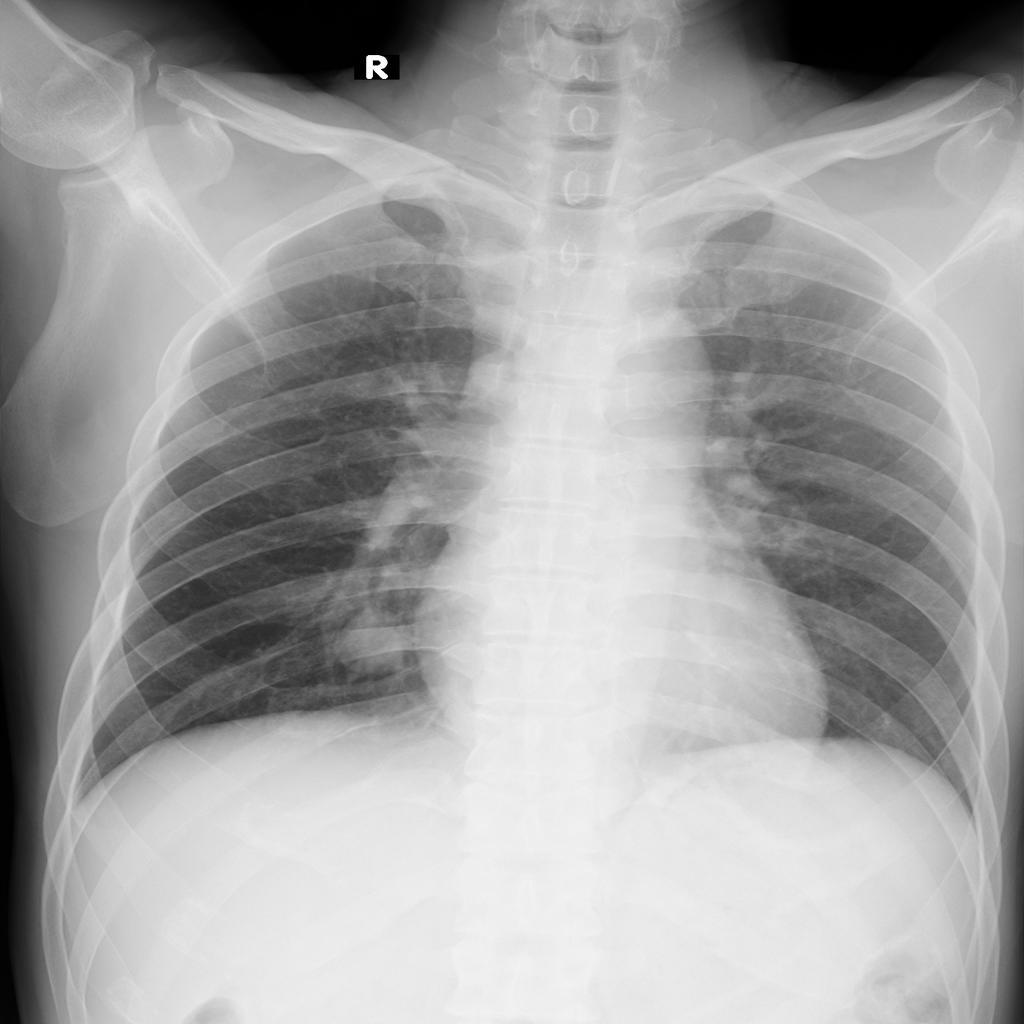Nodule: (334, 607, 408, 676)
